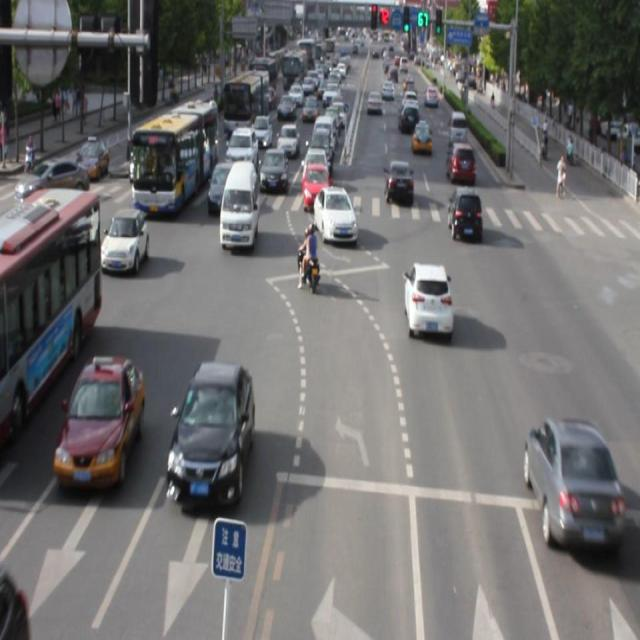car: (165, 358, 253, 505), (524, 417, 622, 548), (54, 353, 140, 488), (403, 262, 452, 334), (101, 210, 148, 272), (312, 183, 356, 244), (447, 187, 481, 240)
truck: (219, 162, 258, 248)
van: (0, 188, 99, 434)
